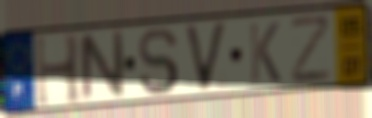H: (33, 32, 84, 110)
K: (247, 20, 283, 86)
N: (76, 28, 127, 105)
S: (137, 26, 181, 98)
V: (182, 20, 230, 95)
Z: (288, 11, 333, 86)
